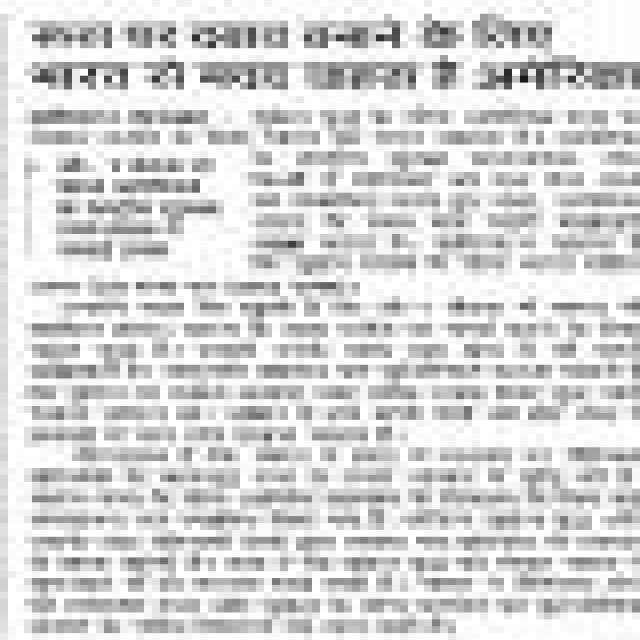paper: (8, 7, 640, 640)
